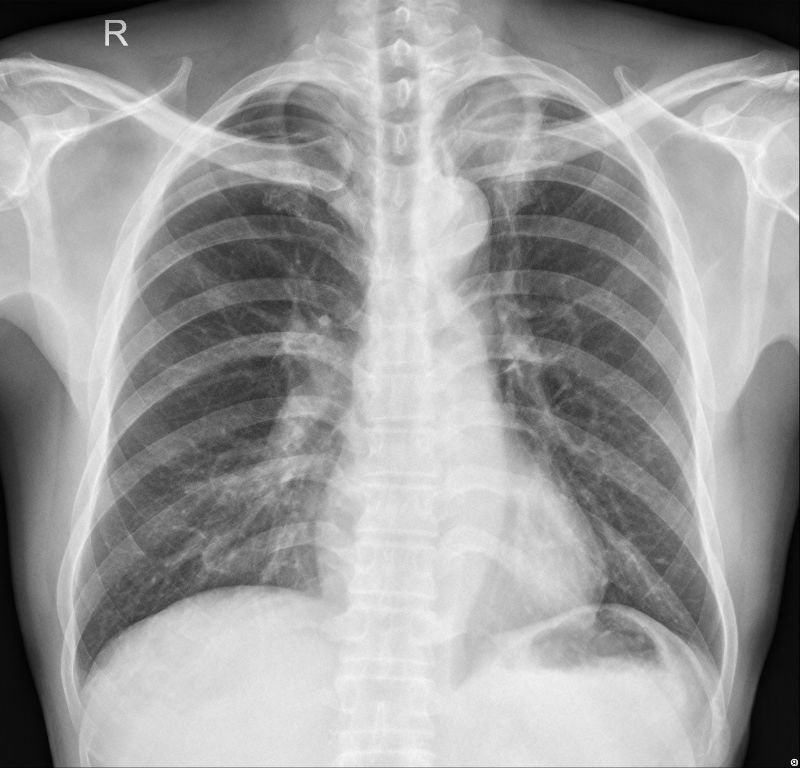Tuberculosis (TB): (497, 100, 577, 217), (241, 167, 318, 252)
